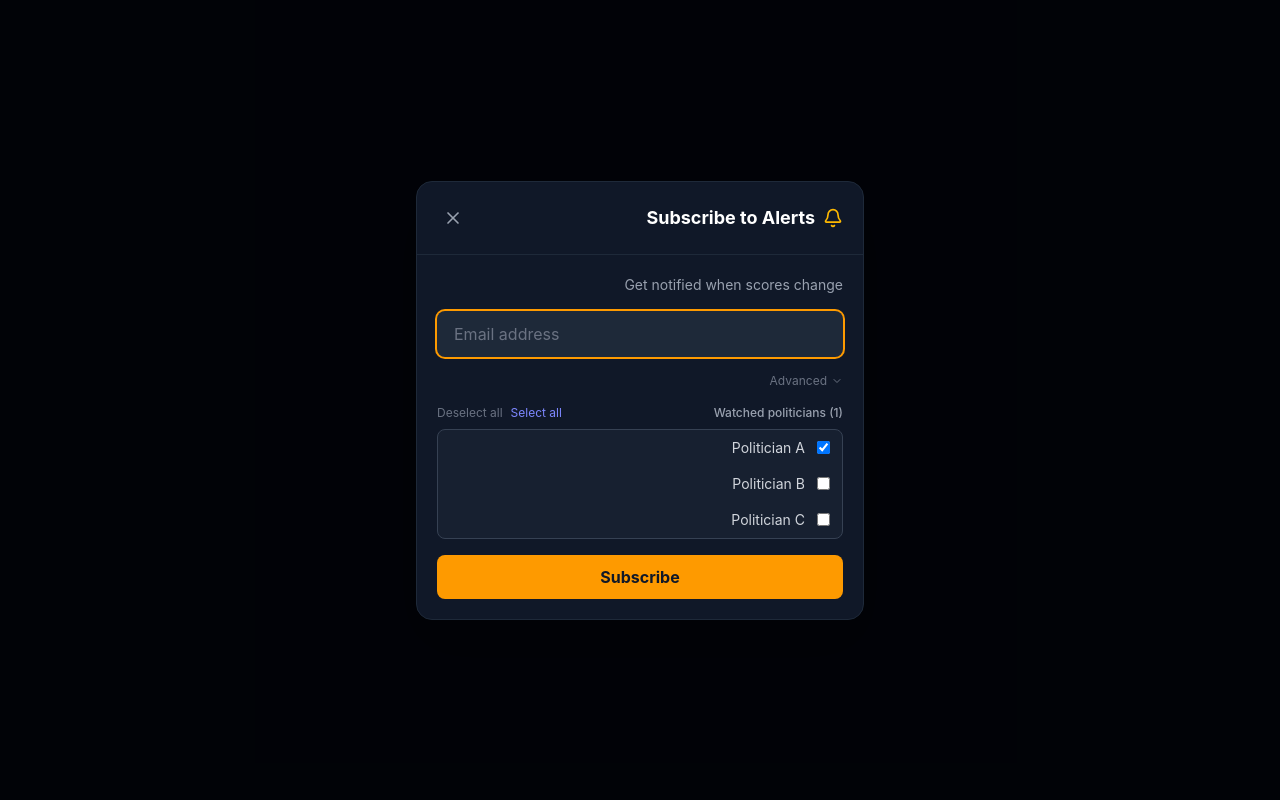
Test case: AlertSubscriptionModal › shows error for empty email on submit
The width and height of the screenshot is (1280, 800).
What coordinates should you click on to do the following:
click the button "Subscribe"
I would click on:
 (640, 576)
Its box is top-left (437, 554), bottom-right (843, 598).
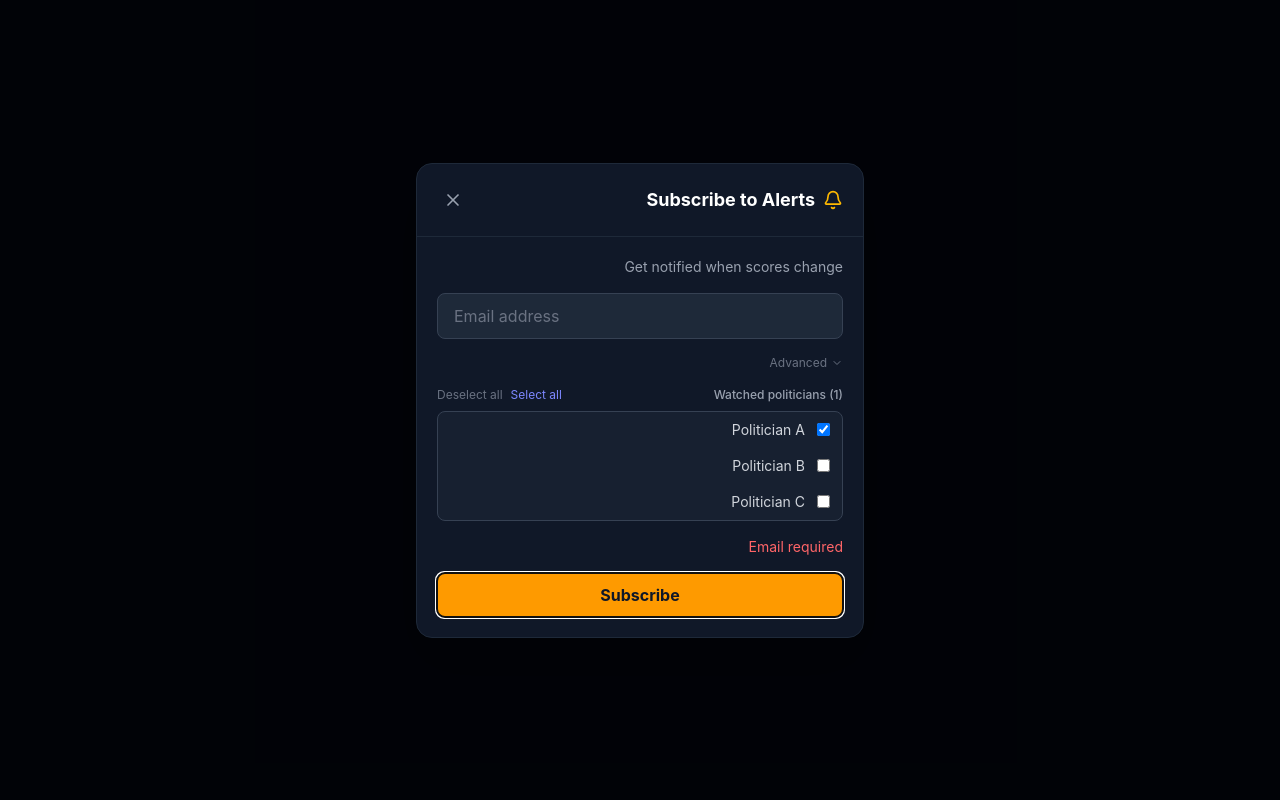
Now the text "Email required" is shown, box top-left (748, 538), bottom-right (843, 554)
